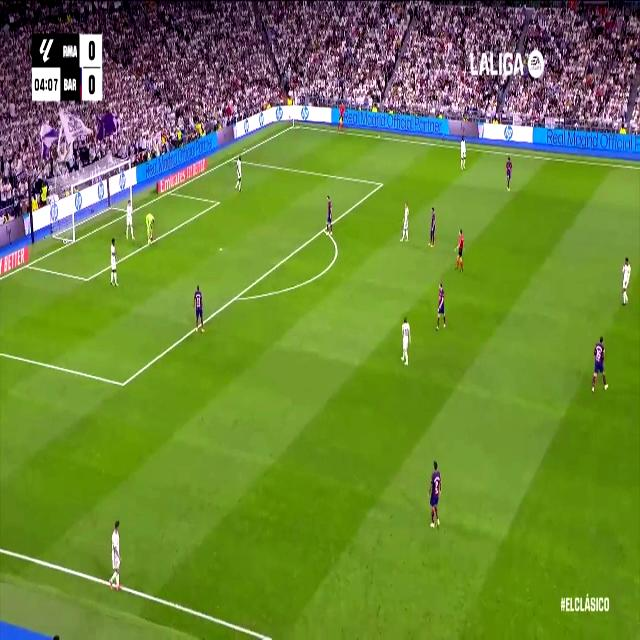bigarea_bottom_inner: (119, 373, 128, 395)
bigarea_top_inner: (378, 178, 384, 190)
bottom_arc_area_intersection: (231, 289, 241, 306)
corner: (290, 122, 296, 130)
smallarea_bottom_inner: (83, 270, 91, 288)
smallarea_top_inner: (215, 198, 219, 206)
top_arc_area_intersection: (320, 221, 328, 236)
